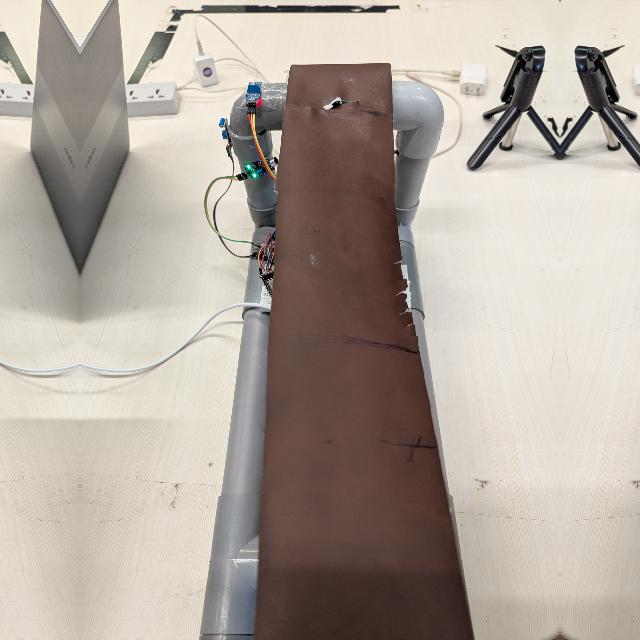edge_damage: (387, 253, 441, 355)
joint_damage: (317, 92, 353, 119)
